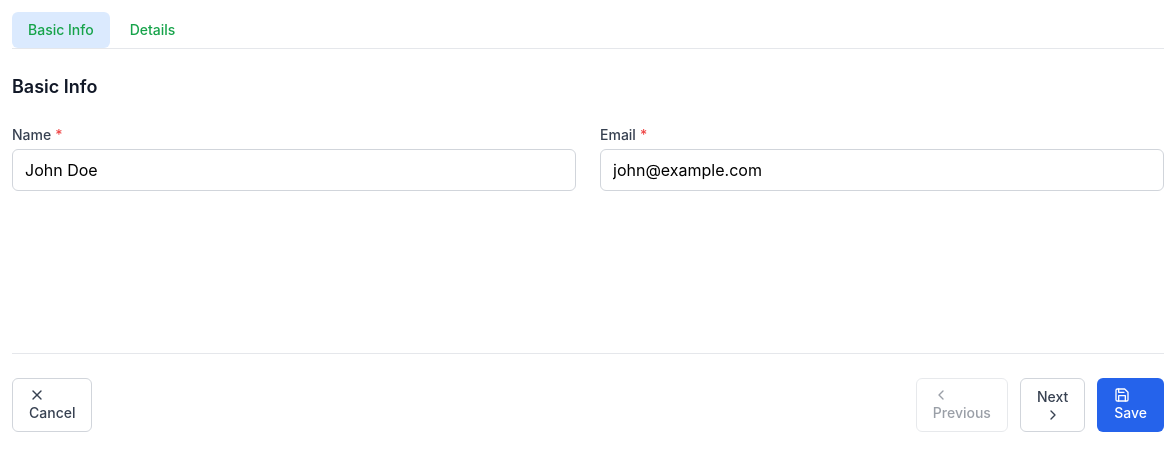
TabbedForm › handles tab navigation with next/previous buttons
Step 1. Click the button "Next" → click(1053, 405), box 1020,378 -> 1085,432
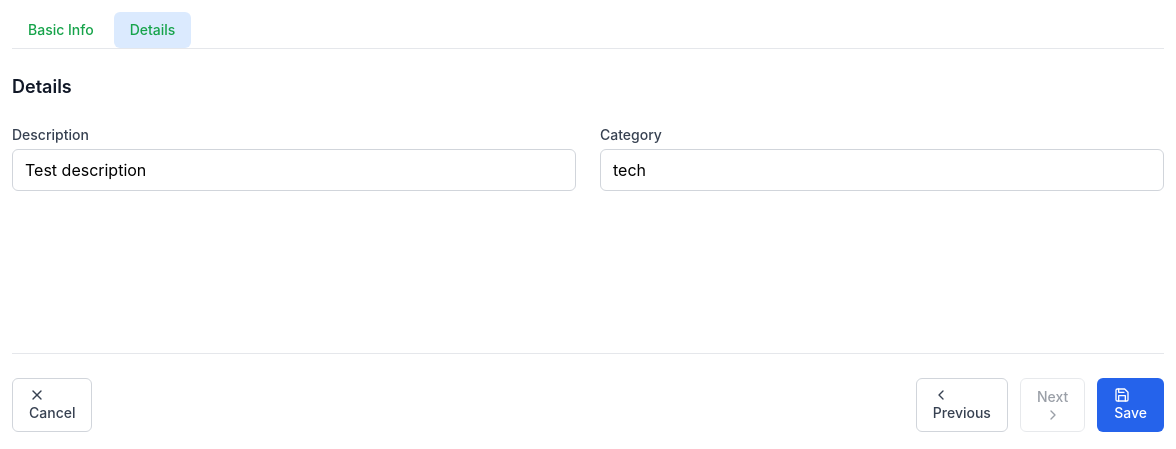
Result: the field showing "Test description" is shown at 12,149 -> 576,191
Step 2. Click the button "Previous" → click(962, 405), box 916,378 -> 1008,432
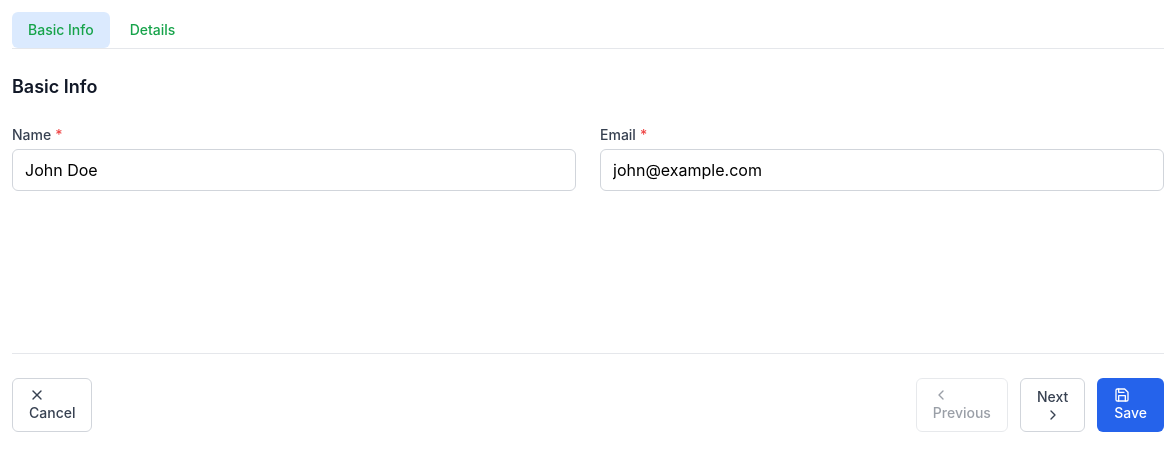
Result: the field showing "John Doe" is shown at 12,149 -> 576,191
